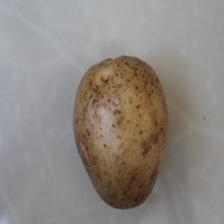Diseased-fungal potato: (71, 55, 168, 212)
